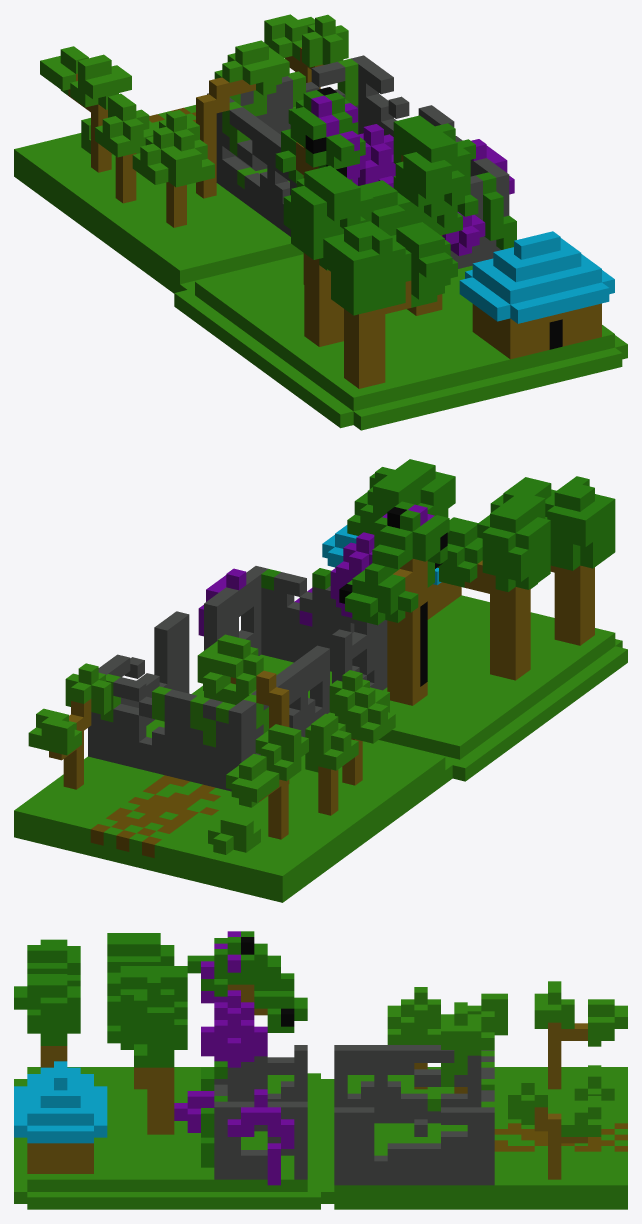
Rendered from World grass part 2.gltf.
3 renders of one model, top to bottom at view 1: azimuth 30°, elevation 25°; view 2: azimuth 150°, elevation 25°; view 3: azimuth 270°, elevation 25°, orthographic. The views are drawn at different scales.
Parts seen in each view (by area): view 1: Layer.1, Layer.3, Layer.2; view 2: Layer.3, Layer.1, Layer.2; view 3: Layer.1, Layer.3, Layer.2.
Boxes of the visible parts, <box> form: Layer.1: <box>174,87,627,430</box>; Layer.3: <box>14,14,454,293</box>; Layer.2: <box>352,124,485,255</box>; Layer.3: <box>14,611,445,902</box>; Layer.1: <box>191,459,627,783</box>; Layer.2: <box>294,532,374,626</box>; Layer.1: <box>14,931,334,1209</box>; Layer.3: <box>334,981,627,1209</box>; Layer.2: <box>174,990,267,1132</box>.
Bounding box in the file's own units: 22 × 16 × 46.
Materials: 1 (1 with a texture image).
